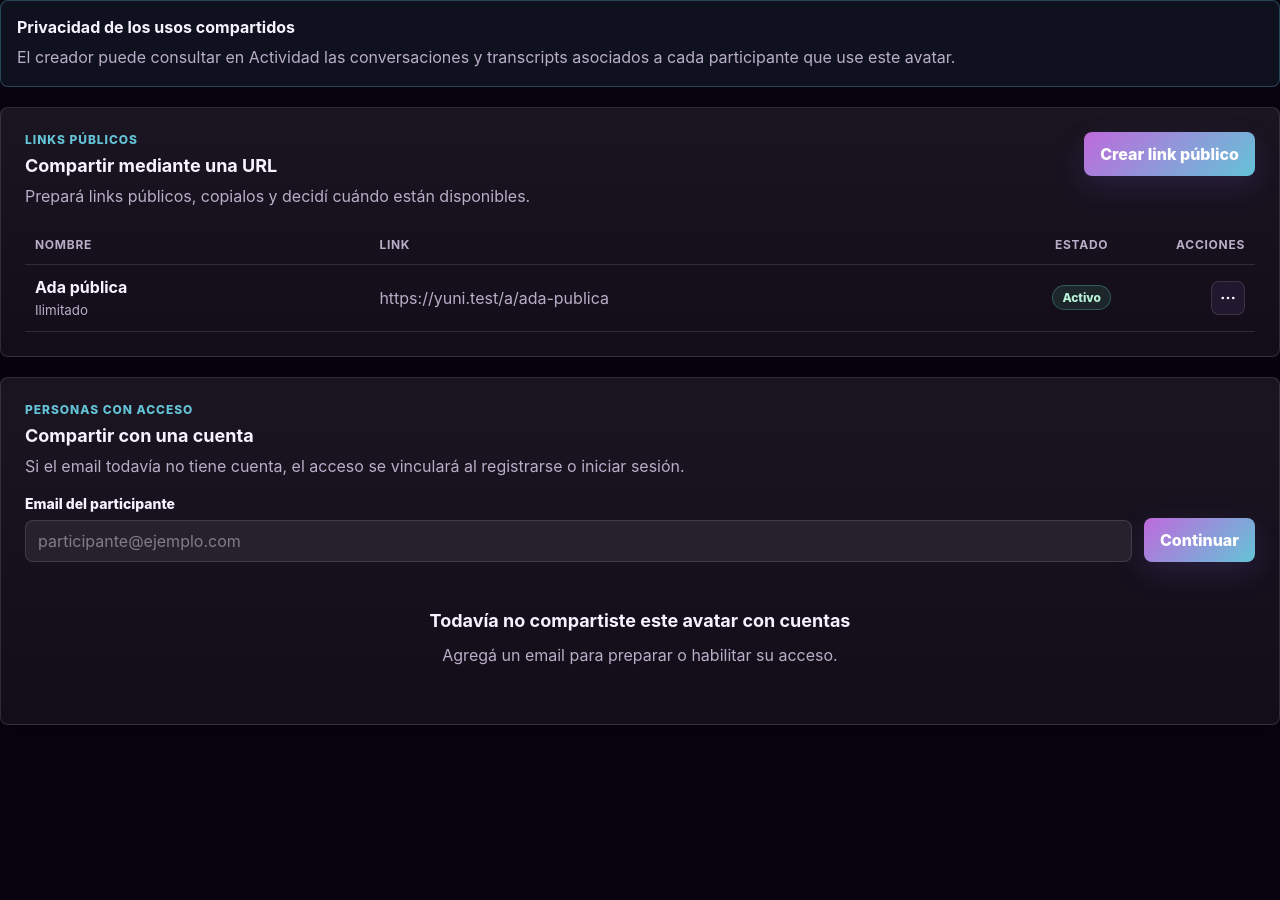
sharing and limits toast feedback › reports a clipboard failure
The width and height of the screenshot is (1280, 900).
Step 1. Click the button named "Acciones para Ada pública" → (1228, 298), box [1211, 281, 1245, 315]
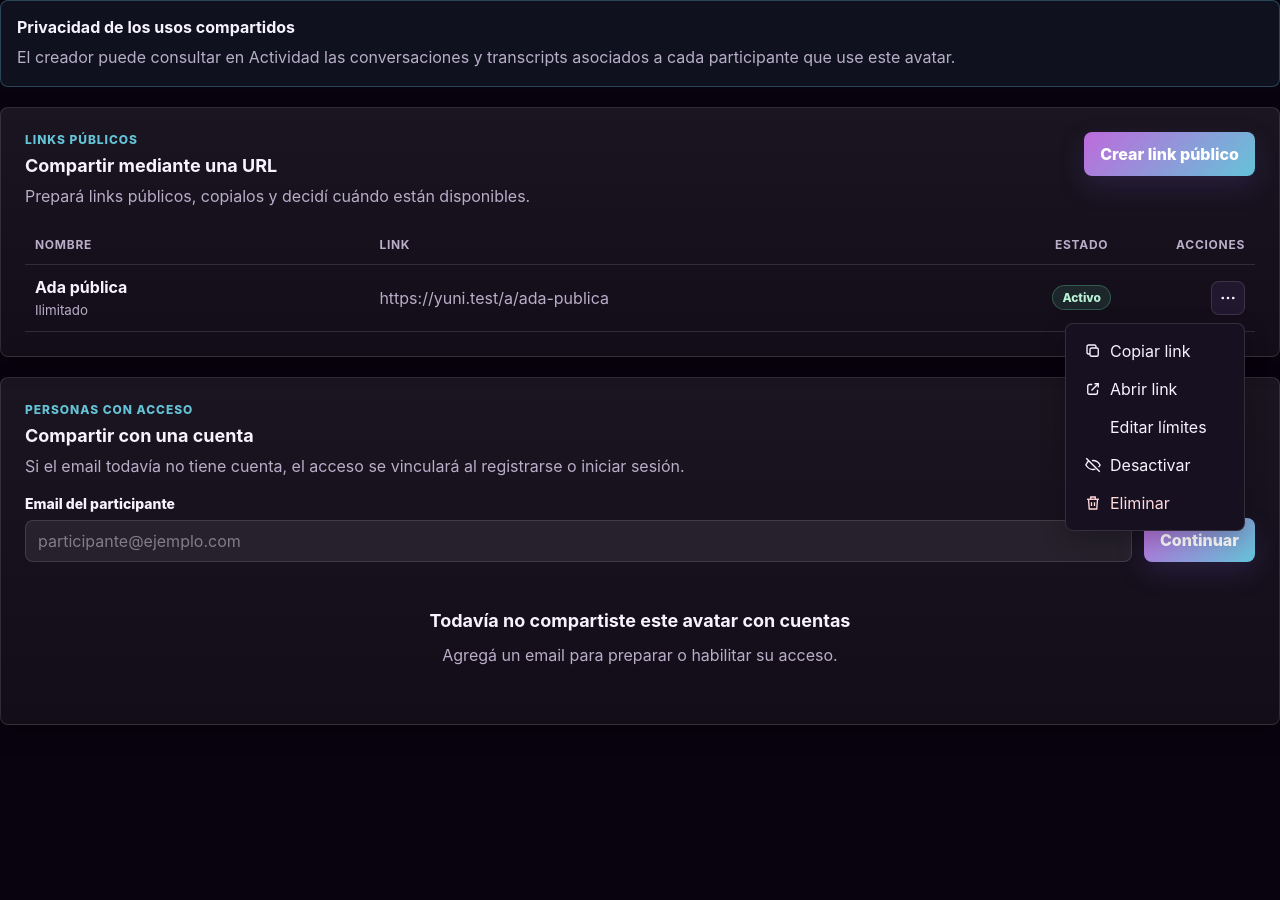
Step 2. Click the menu item "Copiar link" → (1155, 351), box [1074, 332, 1236, 370]
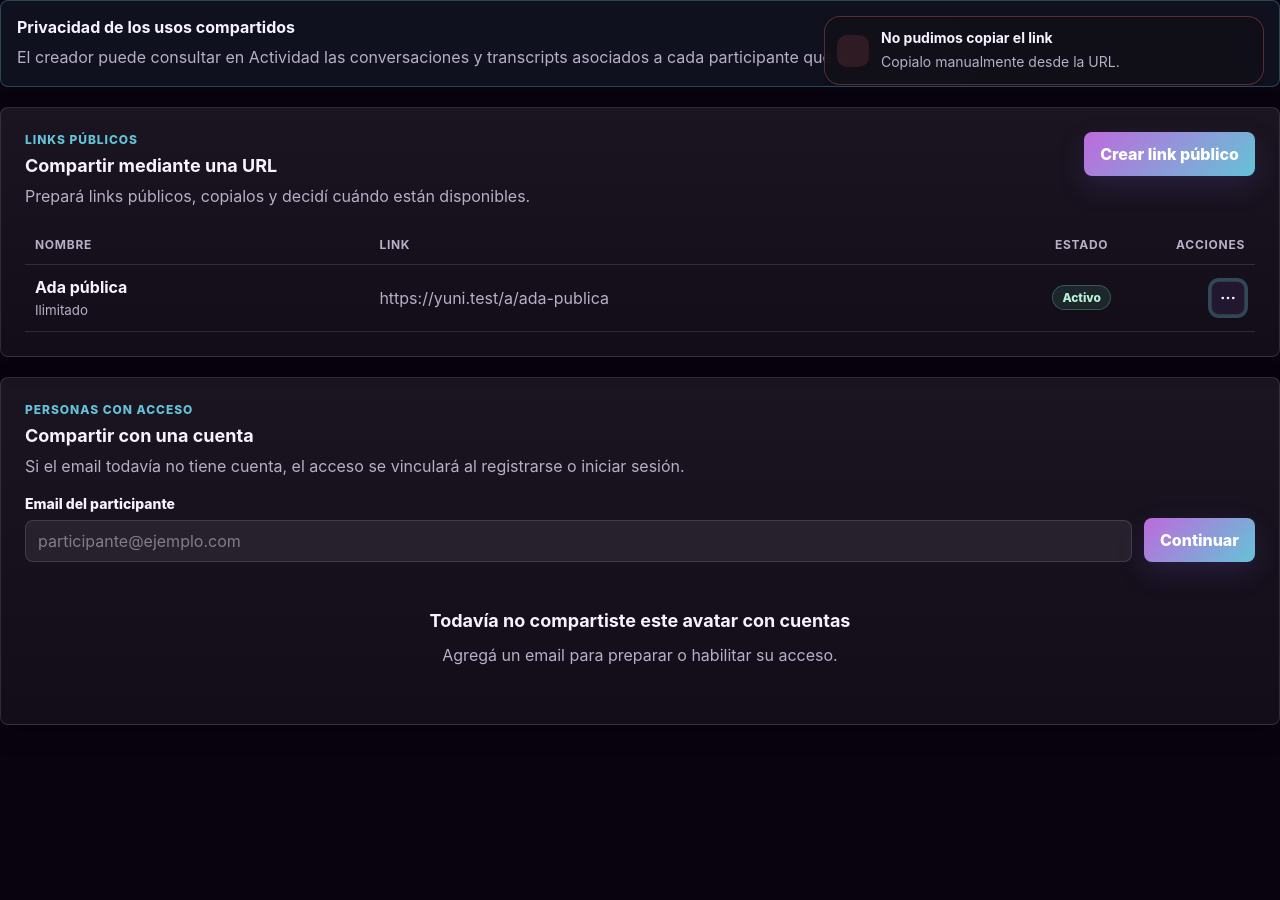
Expected: the message shows "No pudimos copiar el link", [881, 29, 1053, 46]
